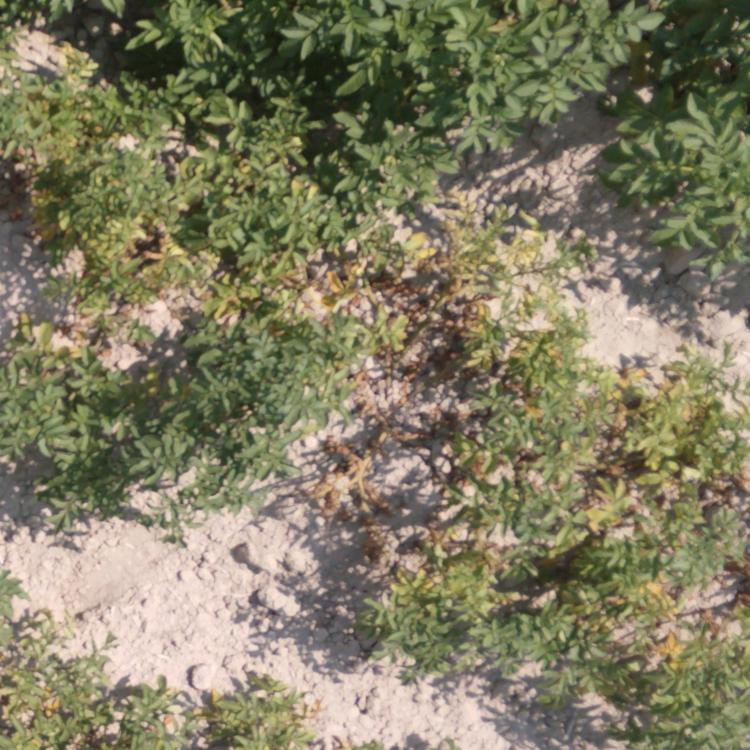healthy: (174, 3, 439, 188), (614, 3, 750, 265), (165, 337, 315, 505), (472, 1, 616, 144), (1, 389, 162, 474)
stressed: (343, 195, 613, 679), (613, 341, 745, 750), (1, 194, 326, 328), (7, 671, 294, 750), (5, 38, 157, 187), (1, 586, 80, 674), (8, 330, 141, 377)
